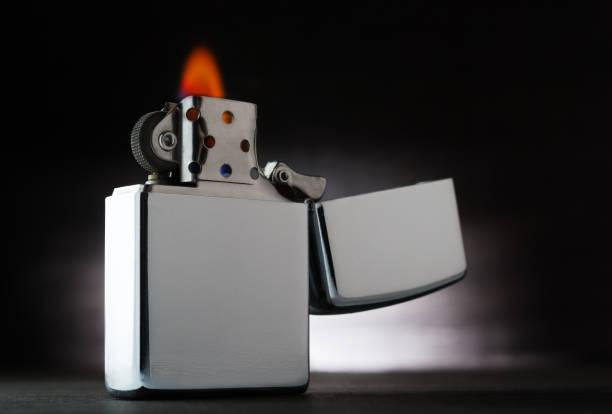Fire: (179, 42, 225, 97)
